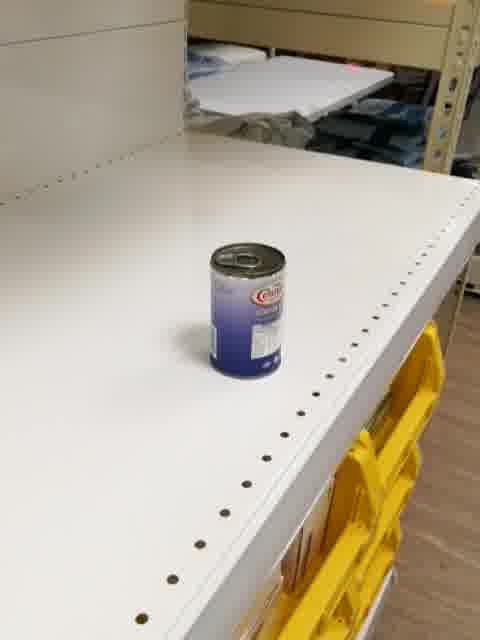sardine: (208, 240, 289, 381)
